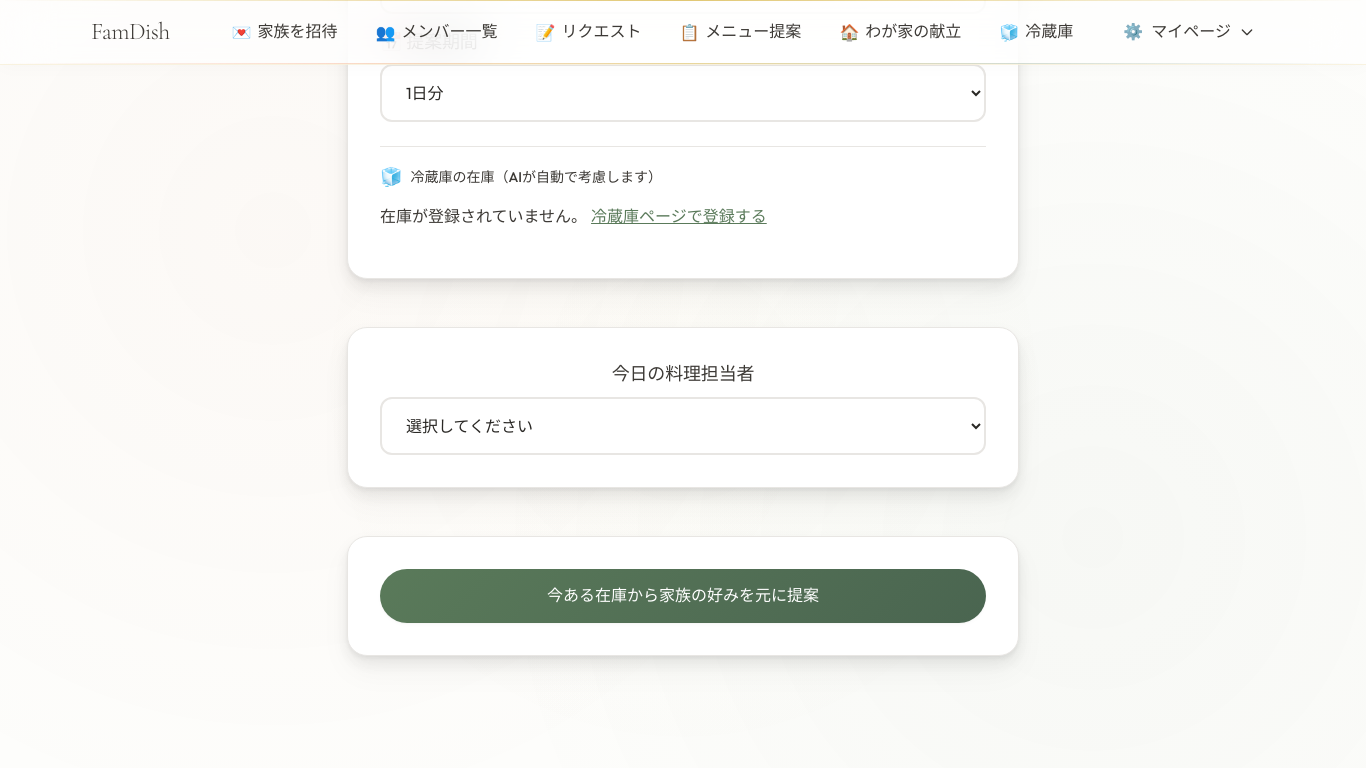
it: MenuPage › 料理担当者設定APIが失敗するとエラーメッセージが表示される
(page scrolled)
Select "2" in the dropdown below "今日の料理担当者" at (683, 426), box [380, 397, 986, 455]
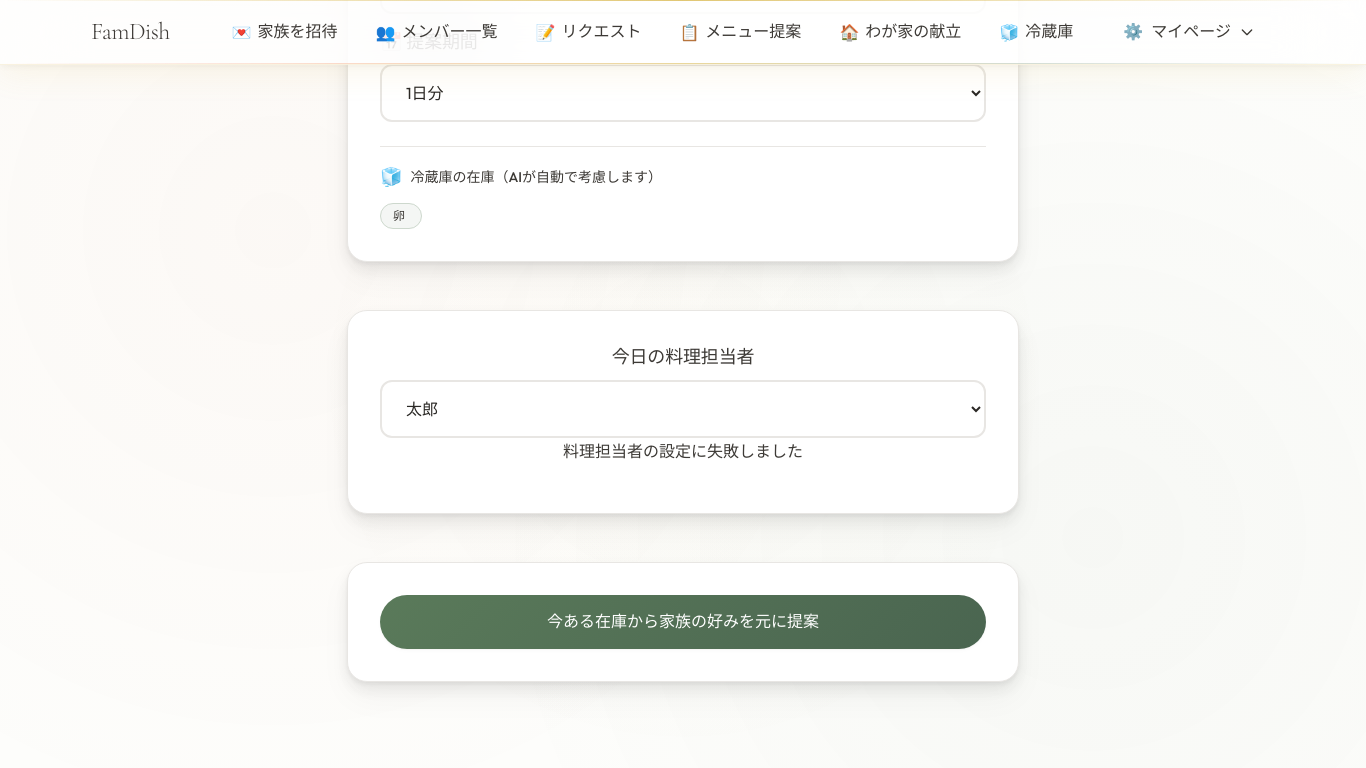
Now the text "料理担当者の設定に失敗しました" is shown, box [563, 441, 803, 461]
